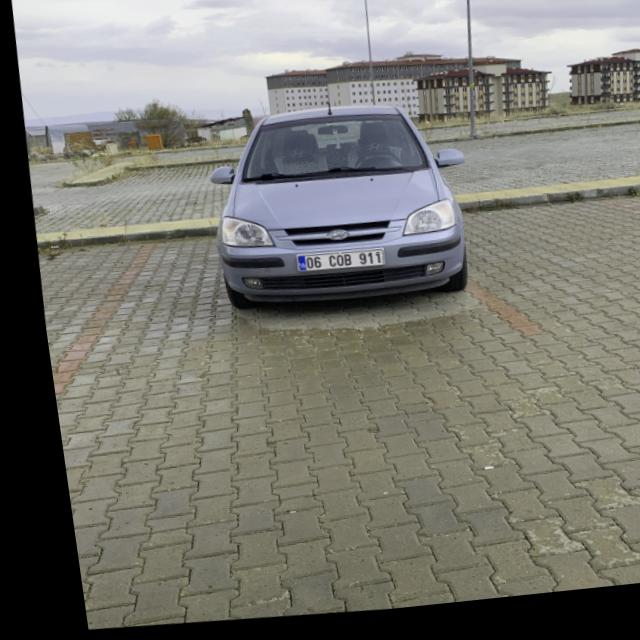license_plate: (287, 253, 376, 279)
